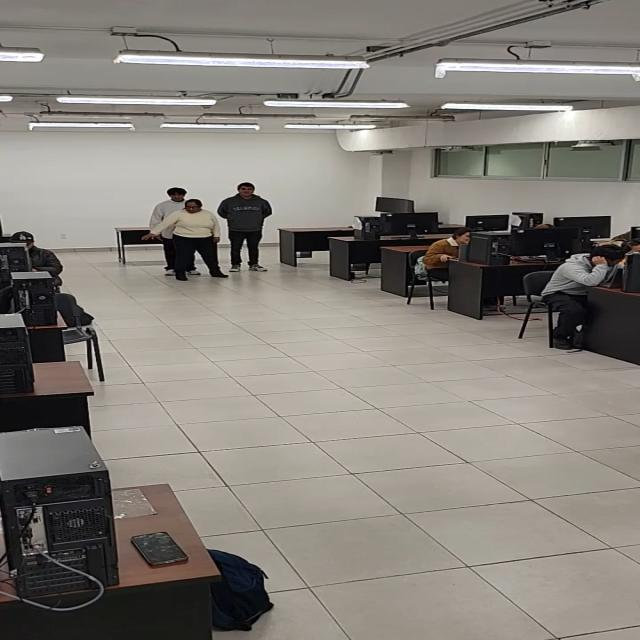Persona: (151, 197, 221, 280), (220, 179, 279, 275)
